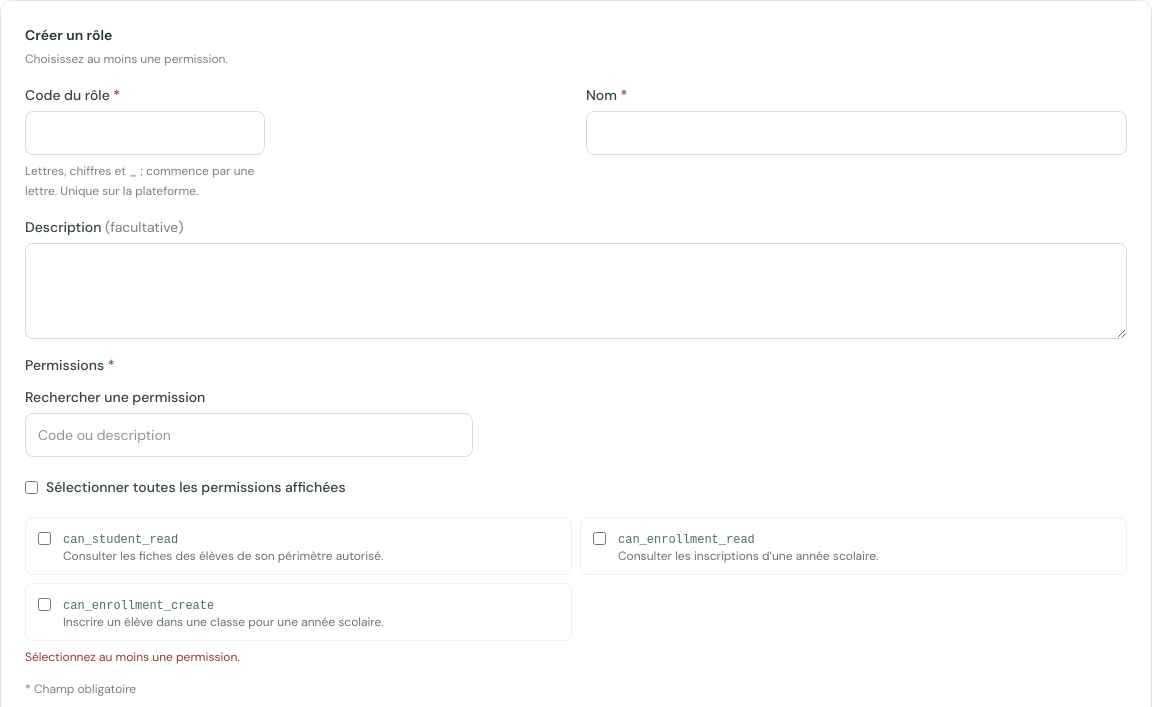
Test case: RoleFormComponent › selects and clears only the permissions currently displayed
The width and height of the screenshot is (1152, 707).
Click the 2nd checkbox. click: (44,538)
box: left=38, top=532, right=51, bottom=545
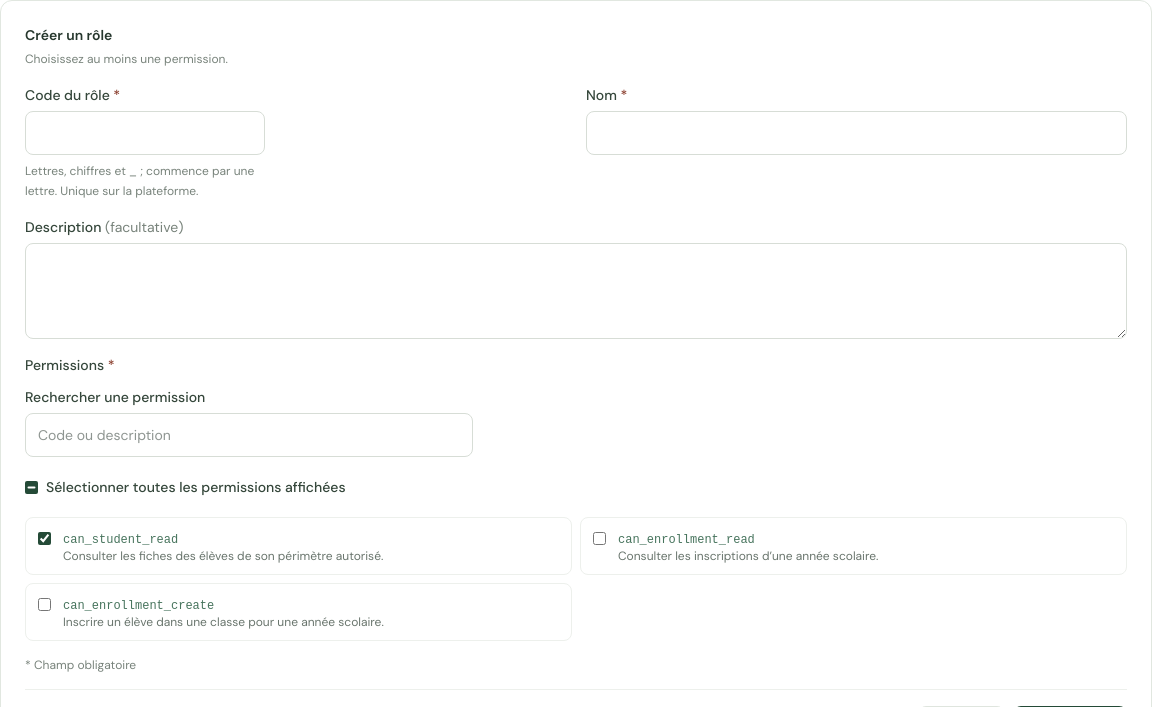
Type "enrollment" into the search field labelled "Rechercher une permission". click: (249,435)
box: left=25, top=413, right=473, bottom=457
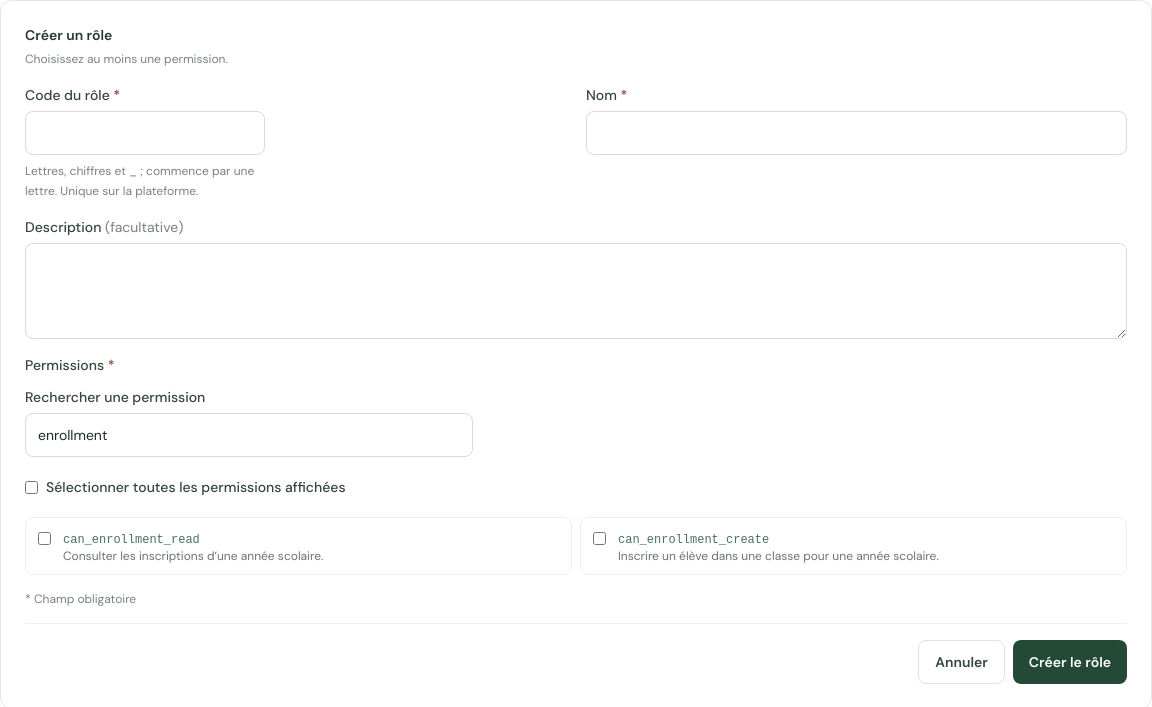
Click the checkbox labelled "Sélectionner toutes les permissions affichées". click: (32,487)
box: left=25, top=480, right=38, bottom=494
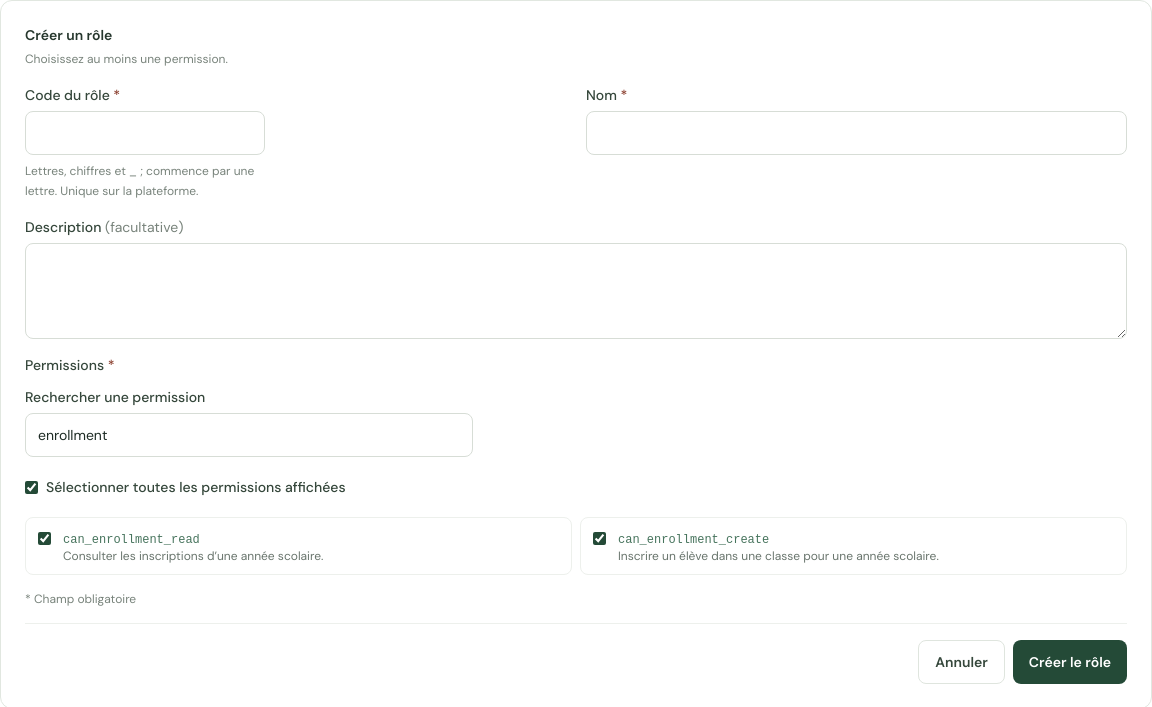
Click the checkbox labelled "Sélectionner toutes les permissions affichées". click: (32,487)
box: left=25, top=480, right=38, bottom=494
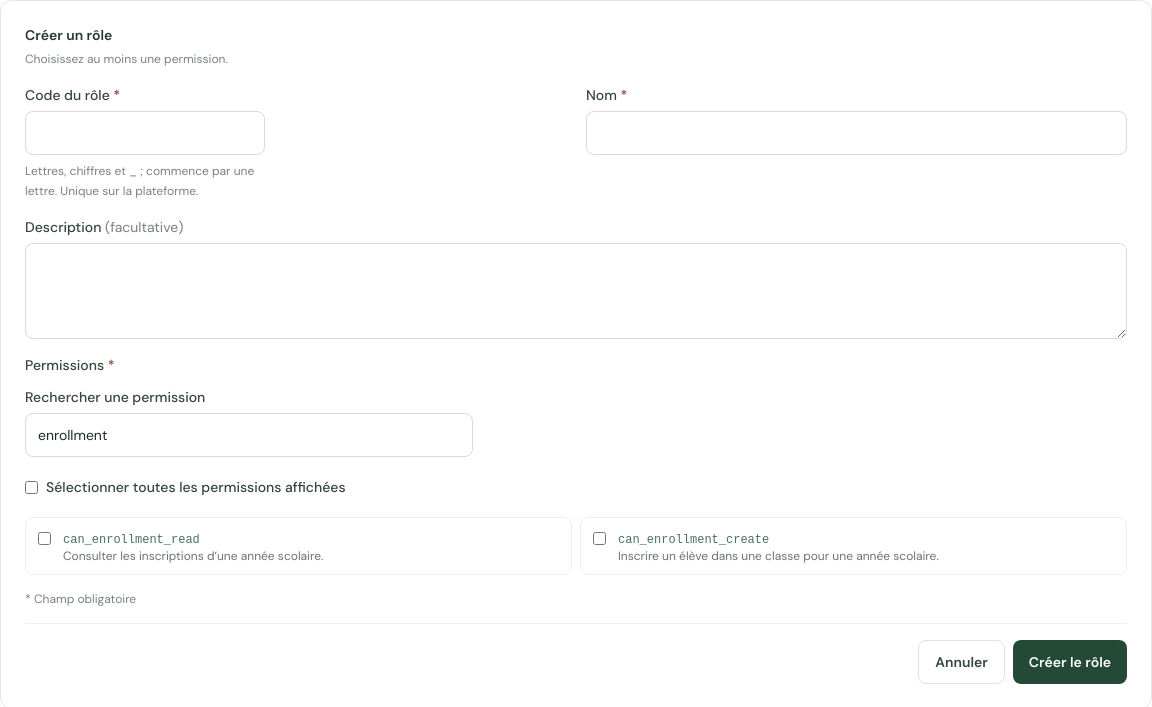
Clear the search field labelled "Rechercher une permission". click: (249,435)
box: left=25, top=413, right=473, bottom=457
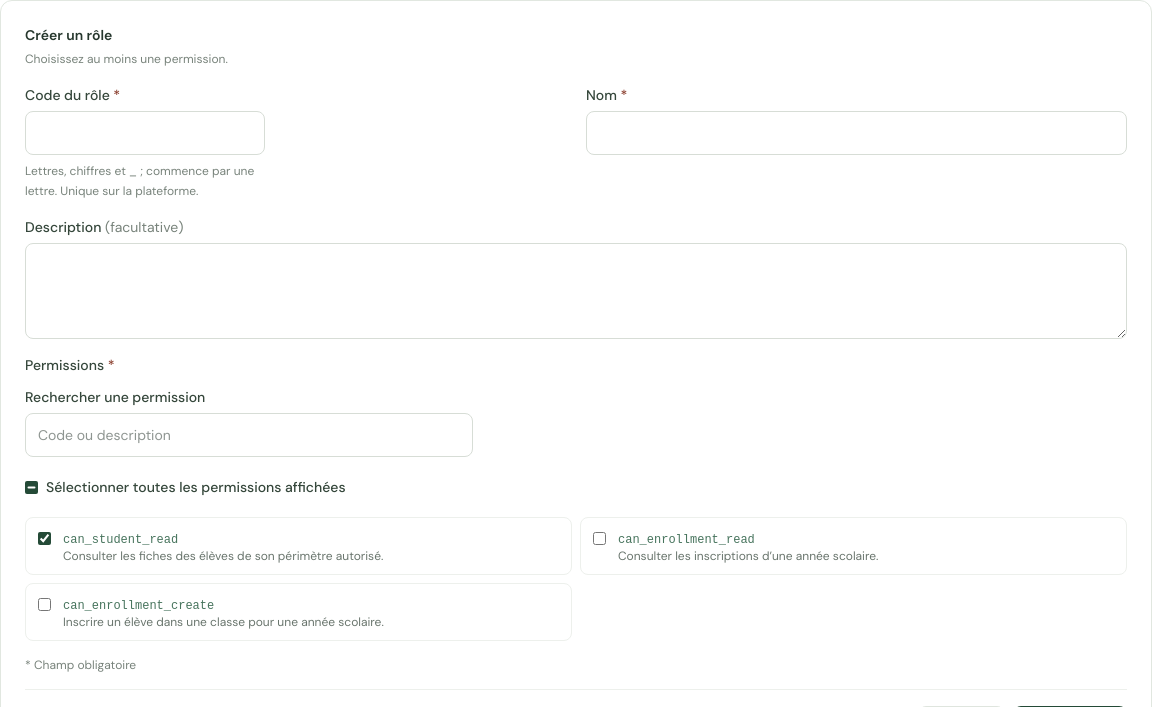
Expected: the 2nd checkbox is checked, left=38, top=532, right=51, bottom=545
